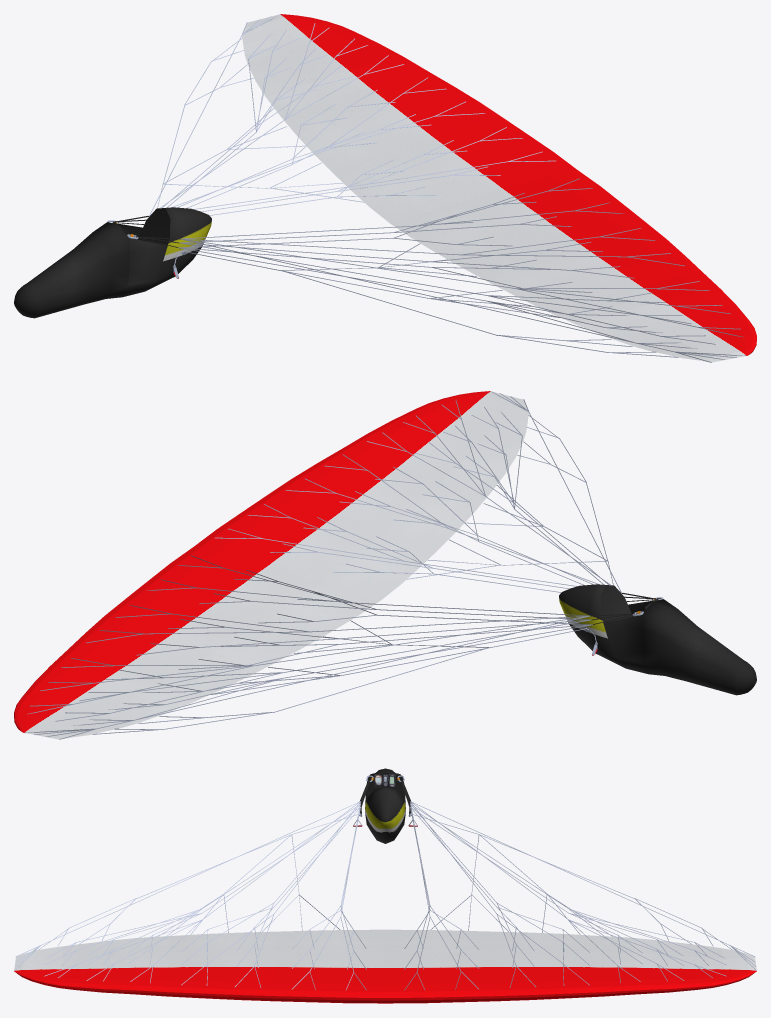
Rendered from paraglider-red-launch-cbj_LOD00.gltf.
3 renders of one model, top to bottom at view 1: azimuth 30°, elevation 25°; view 2: azimuth 150°, elevation 25°; view 3: azimuth 270°, elevation 25°, orthographic. The views are drawn at different scales.
Visible parts, largest first — view 1: wing; view 2: wing; view 3: wing.
Boxes of the visible parts, x1=… form: wing: x1=14, y1=14, x2=756, y2=362; wing: x1=14, y1=391, x2=756, y2=739; wing: x1=14, y1=768, x2=756, y2=1003.
Size of the model in its own units: 7.72 by 1.08 by 11.07.
